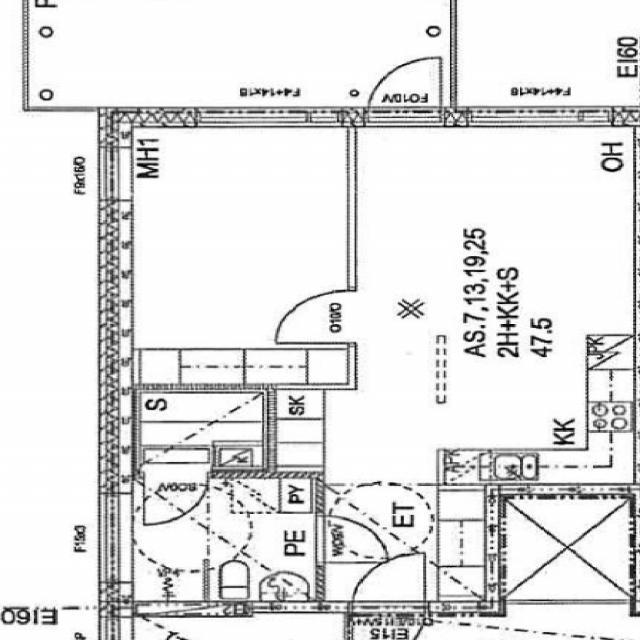door: (367, 53, 441, 127), (352, 546, 424, 613), (276, 290, 356, 343), (144, 470, 205, 524), (315, 516, 386, 562), (352, 600, 424, 640)
